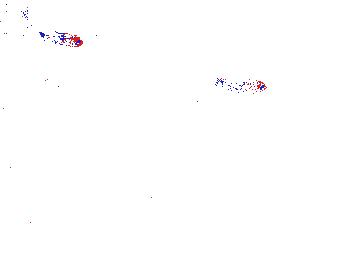X-ray fish: (179, 160, 223, 189)
red belly glassfish: (213, 75, 268, 95), (38, 29, 85, 49)
redtail glassfish: (1, 3, 32, 25)
